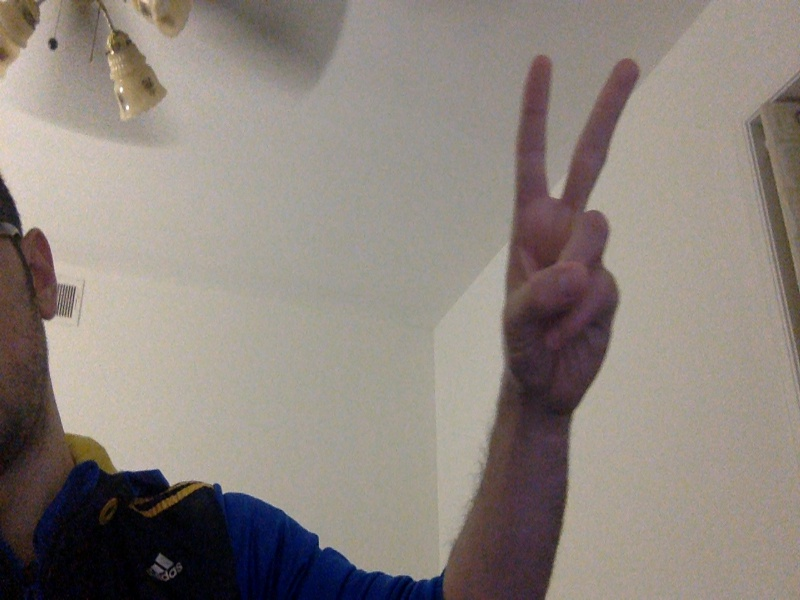2-hand: (504, 51, 642, 402)
